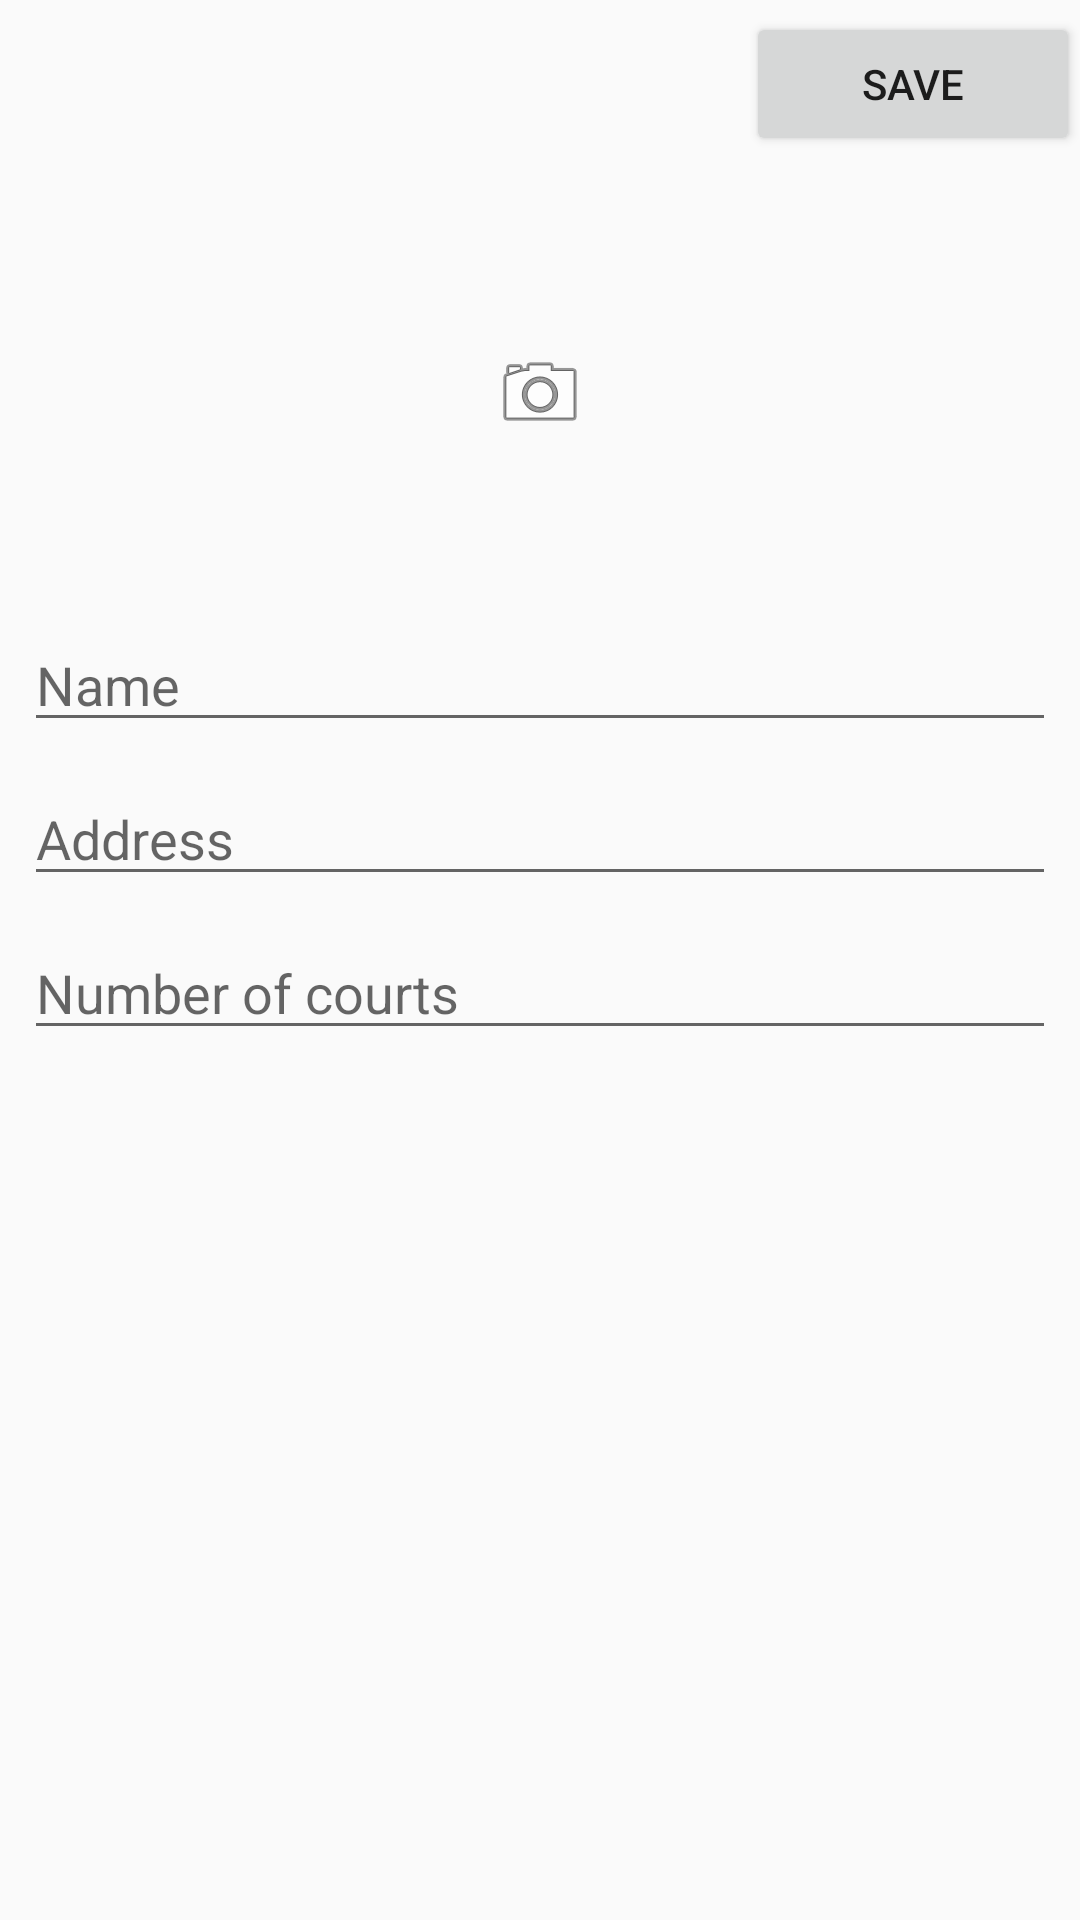

Icon click points for this 1080w x 1920h phone screenshot, format (x=x, y=y):
camera: (x=540, y=391)
